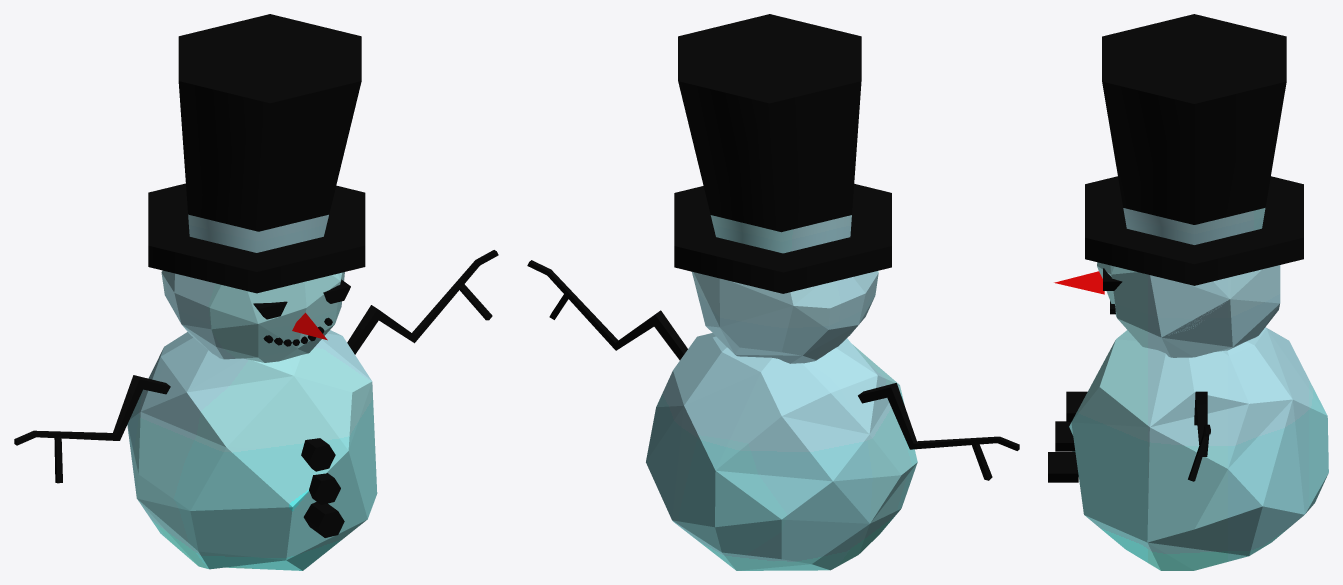
Rendered from Snowman.fbx.
3 renders of one model, left to right at view 1: azimuth 30°, elevation 25°; view 2: azimuth 150°, elevation 25°; view 3: azimuth 270°, elevation 25°, orthographic.
Visible parts, largest first — view 1: Snowman; view 2: Snowman; view 3: Snowman.
Boxes of the visible parts, <box> form: Snowman: <box>14,14,498,570</box>; Snowman: <box>527,14,1019,570</box>; Snowman: <box>1048,14,1328,570</box>.
Size of the model in its own units: 2.29 by 2.24 by 1.14.
